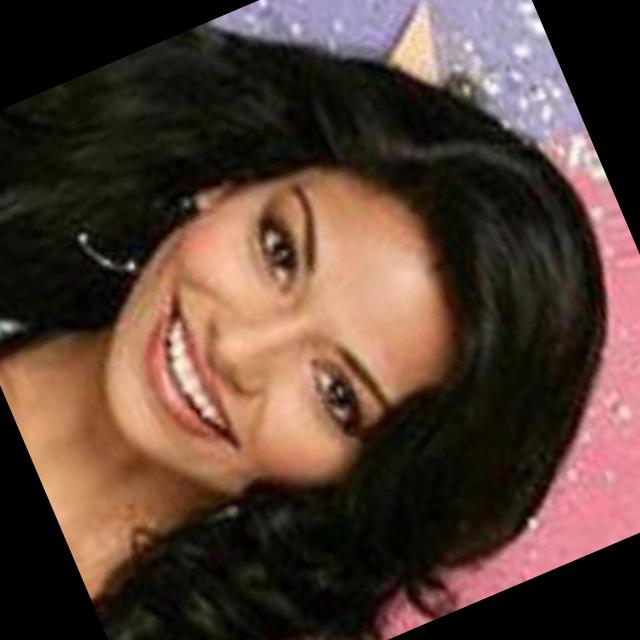bareface: (48, 21, 640, 627)
